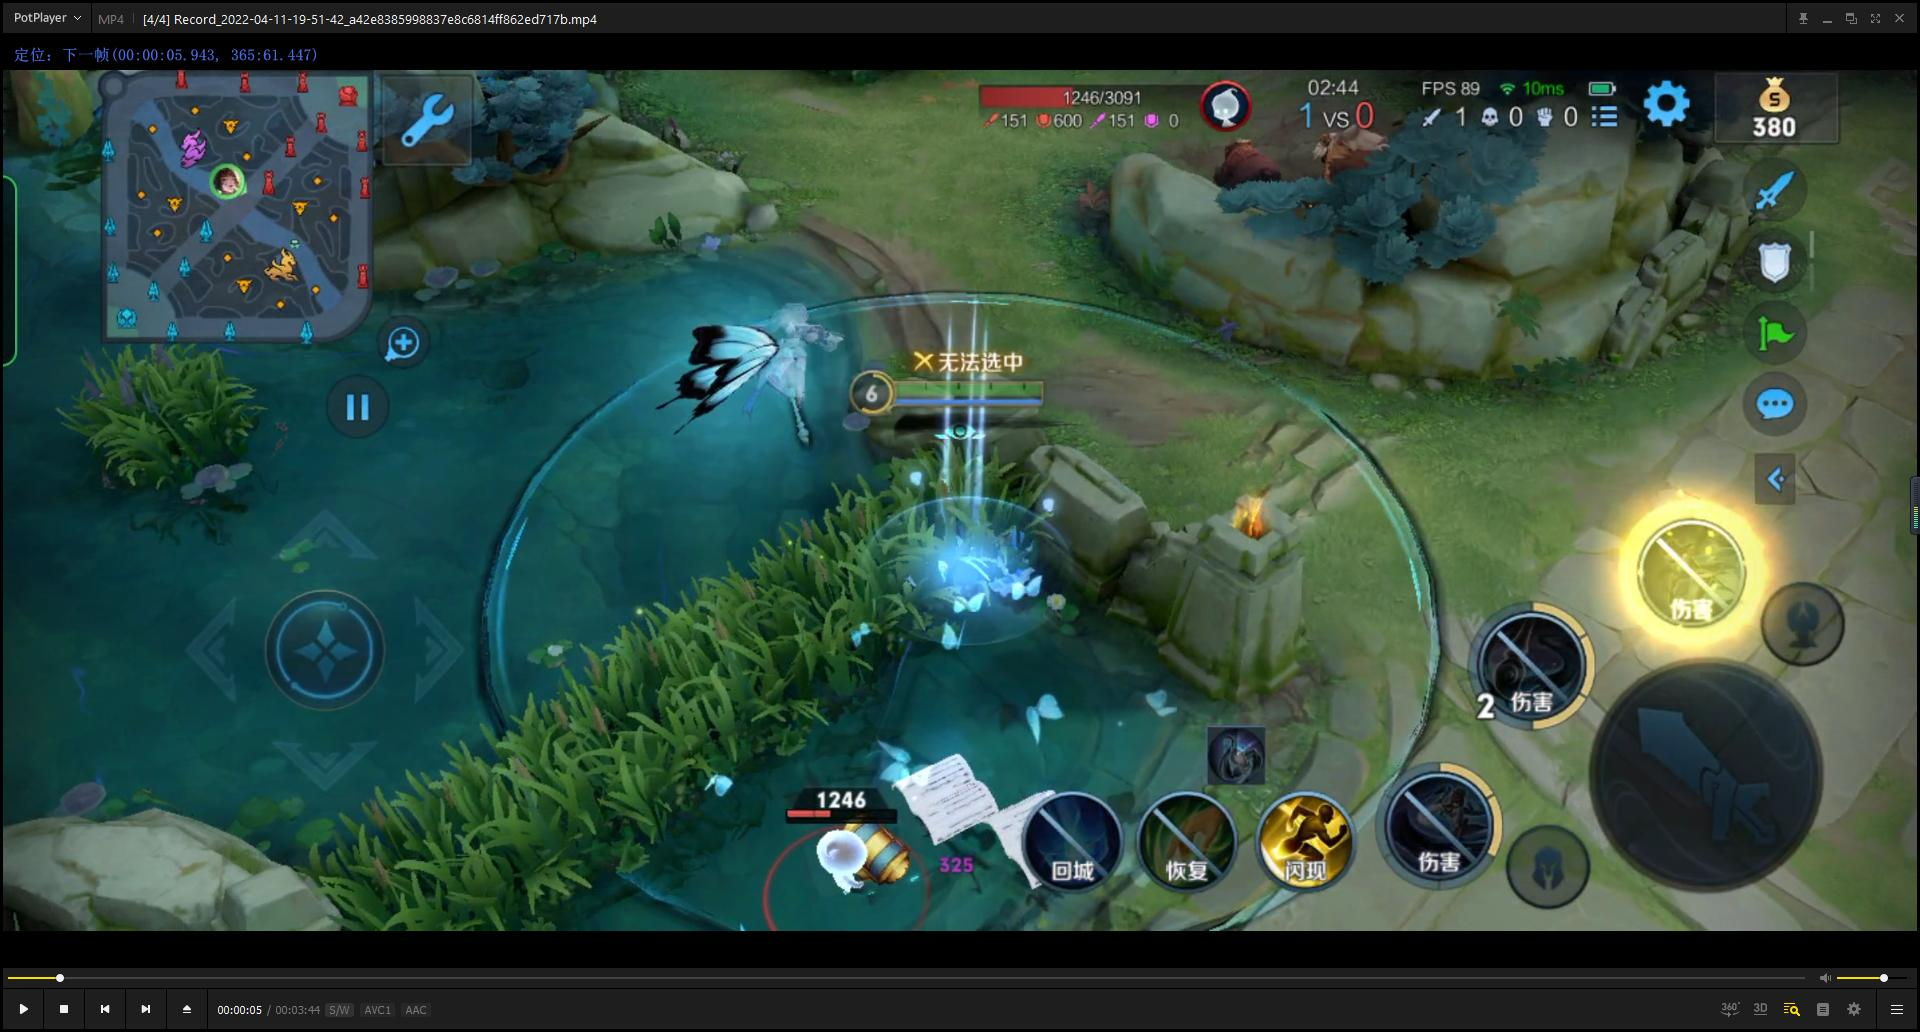Hero: (676, 297, 1083, 658)
Pig: (1286, 104, 1410, 200), (1205, 125, 1292, 225)
Spirit: (746, 763, 926, 918)
